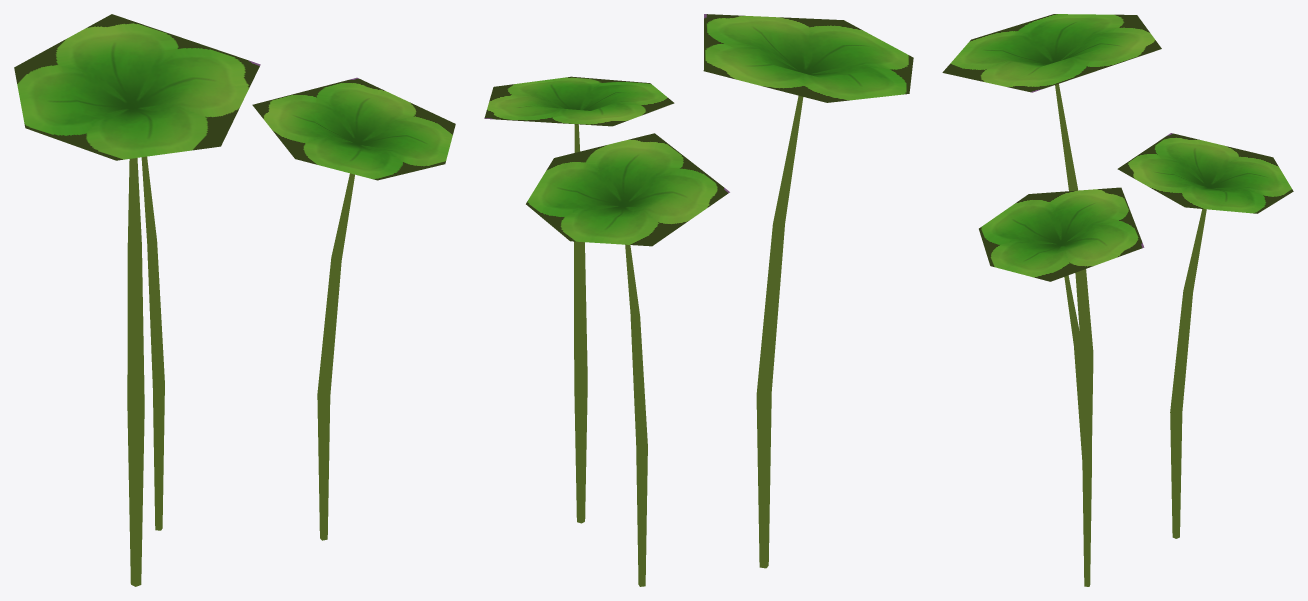
File: flowers_05.fbx
The picture shows the model from 3 angles, left to right: view 1: azimuth 30°, elevation 25°; view 2: azimuth 150°, elevation 25°; view 3: azimuth 270°, elevation 25°; orthographic projection. The views are drawn at different scales.
Parts seen in each view (by area): view 1: flowers_05; view 2: flowers_05; view 3: flowers_05.
Part boxes in pixels (x1,y1,x2,y2): flowers_05: (14, 14, 455, 586); flowers_05: (484, 14, 913, 586); flowers_05: (942, 14, 1293, 586).
Bounding box in the file's own units: 50.74 × 60.49 × 41.43.
